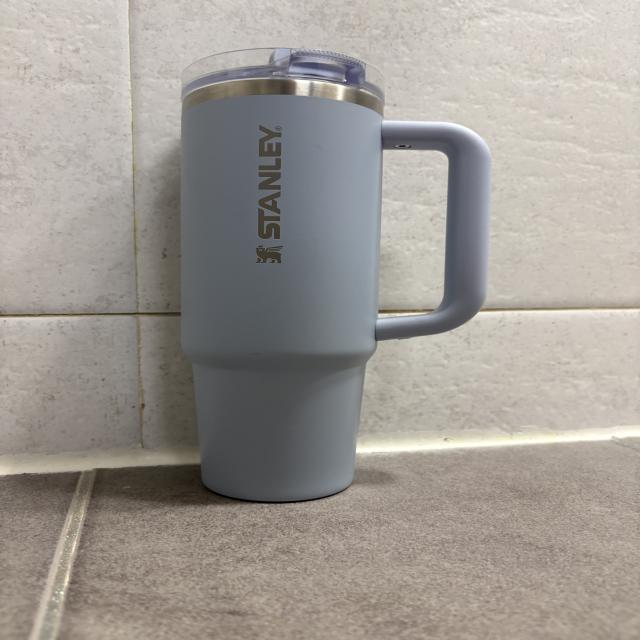waterbottle: (181, 47, 488, 502)
